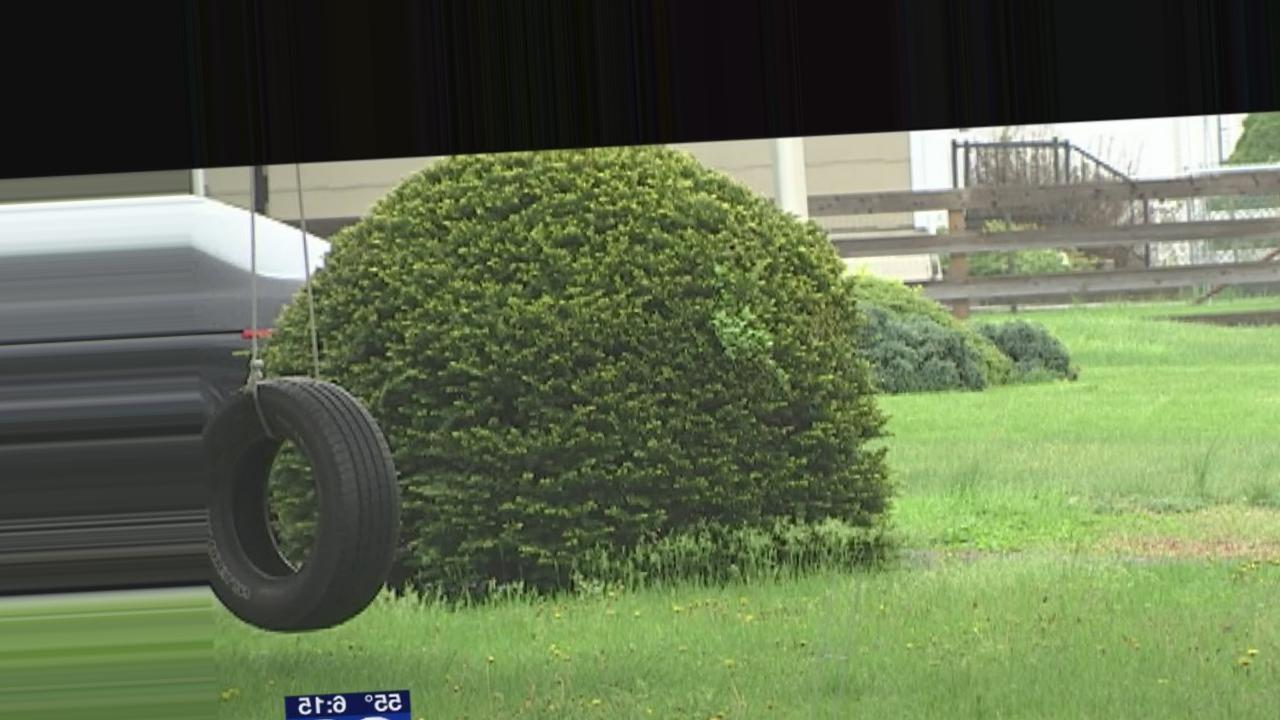patch: (1122, 531, 1277, 560)
